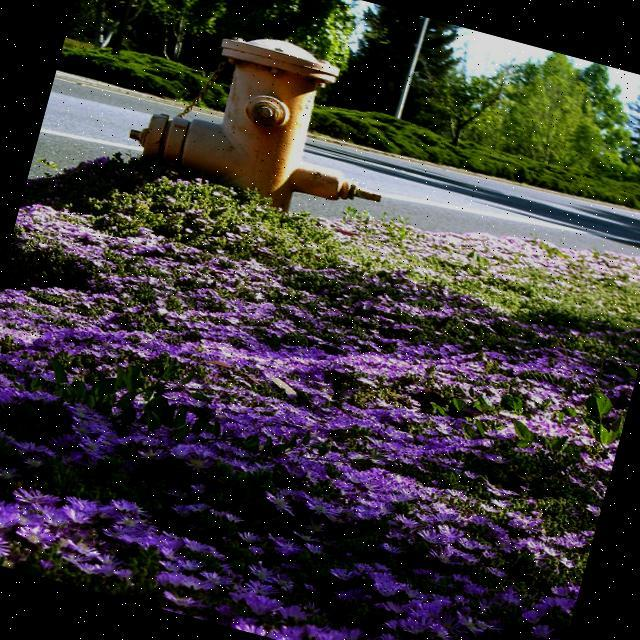fire_hydrant: (116, 0, 412, 237)
